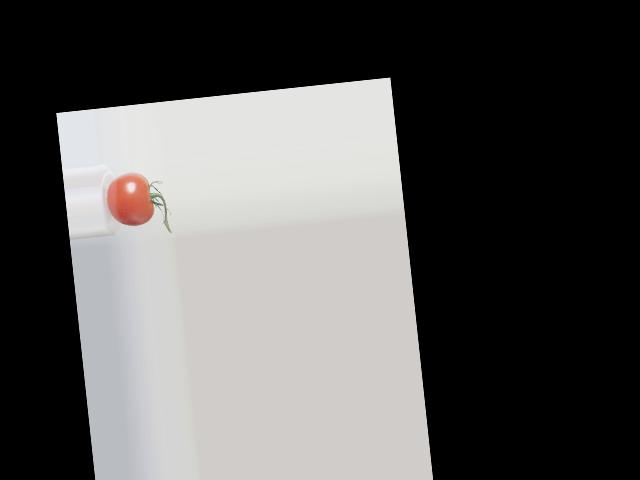tomato: (104, 170, 155, 229)
